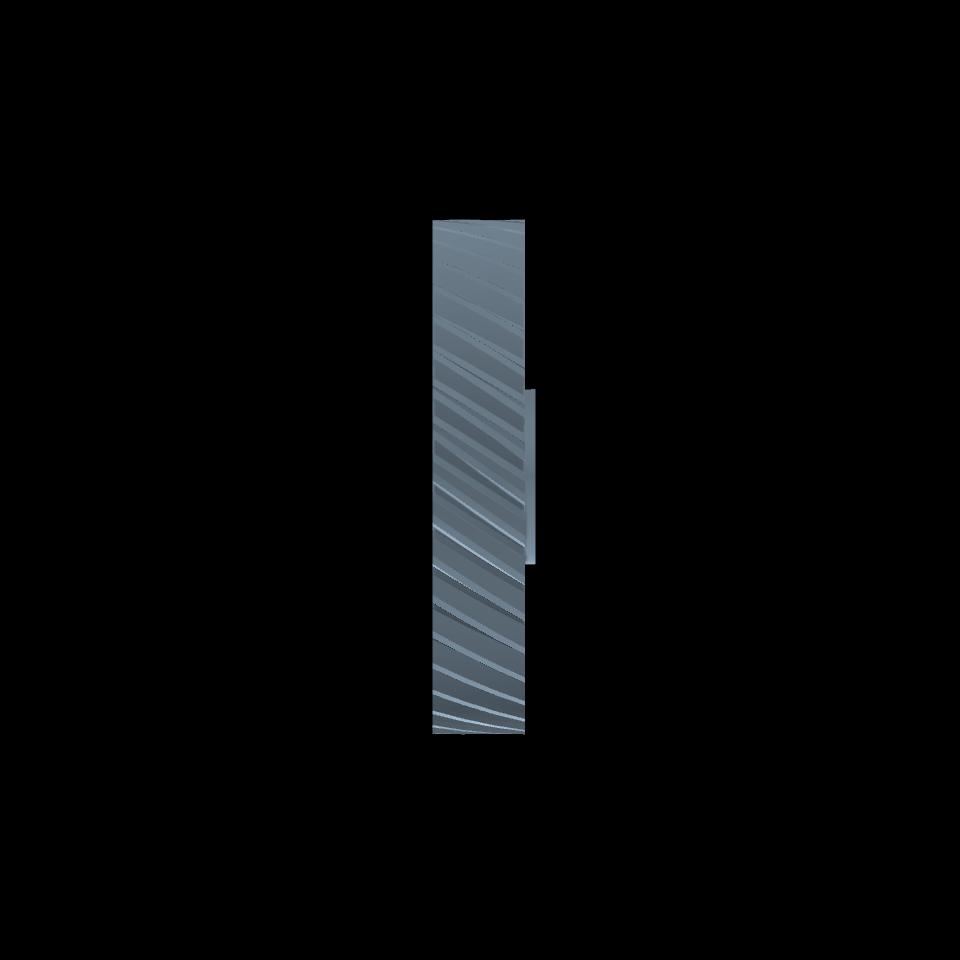Helical: (432, 220, 525, 733)
